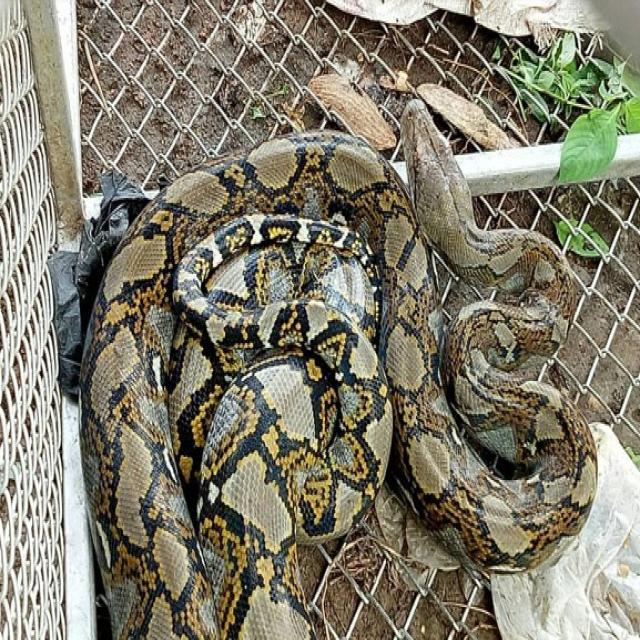Non-Venomous: (395, 100, 486, 252)
